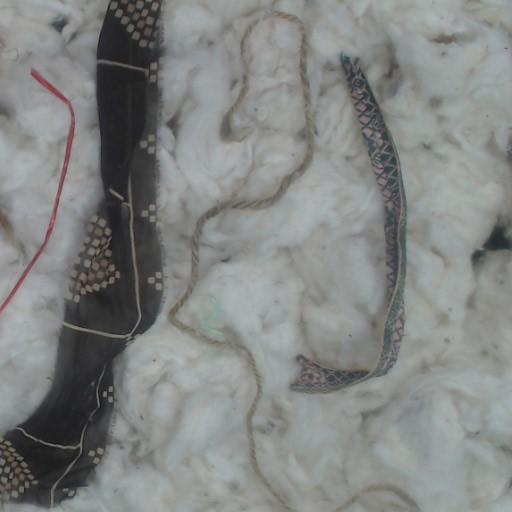cloth: (0, 0, 163, 506), (291, 55, 405, 392)
cotton: (221, 12, 306, 201)
jute: (169, 0, 314, 511), (334, 484, 420, 511)
thread: (0, 70, 75, 315)
